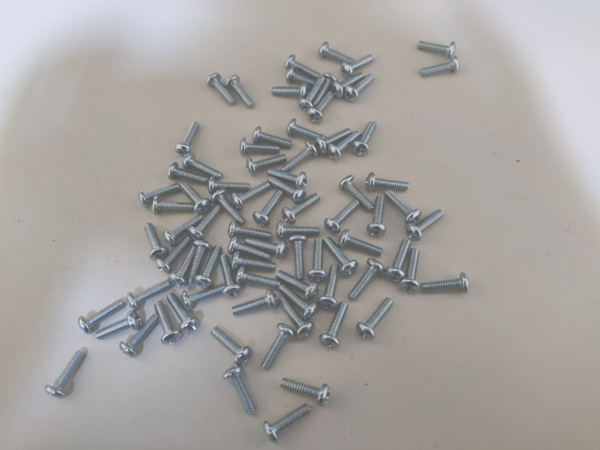shortscrew: (45, 350, 86, 399), (264, 403, 312, 443), (119, 315, 159, 359), (223, 365, 257, 416), (77, 301, 125, 336), (261, 323, 296, 371), (211, 327, 253, 366), (357, 298, 394, 341), (278, 297, 315, 339), (349, 258, 385, 301), (319, 302, 349, 350), (281, 378, 331, 406), (167, 293, 201, 334), (279, 285, 318, 320), (96, 311, 143, 340), (324, 236, 358, 276), (405, 209, 446, 242), (155, 237, 192, 273), (324, 199, 362, 234), (231, 289, 278, 317), (339, 176, 375, 212), (276, 270, 319, 300), (180, 284, 226, 312), (155, 302, 183, 347), (386, 190, 422, 225), (168, 245, 197, 287), (385, 238, 412, 283), (195, 245, 222, 290), (187, 240, 213, 286), (127, 283, 171, 310), (188, 204, 221, 240), (212, 189, 245, 225), (283, 193, 321, 224), (339, 230, 384, 256), (139, 182, 182, 209), (282, 142, 318, 174), (163, 216, 204, 244), (183, 151, 224, 179), (231, 182, 271, 210), (229, 236, 272, 262), (314, 128, 353, 156), (267, 176, 306, 204), (325, 131, 361, 161), (237, 266, 282, 290), (253, 190, 283, 226), (422, 273, 470, 295), (245, 237, 289, 261), (219, 254, 242, 299), (225, 76, 255, 109), (318, 264, 339, 311), (252, 126, 293, 150), (144, 222, 169, 261), (399, 249, 421, 293), (306, 238, 328, 282), (207, 73, 236, 106), (352, 120, 377, 156), (232, 251, 277, 271), (330, 73, 364, 99), (246, 155, 288, 176), (366, 195, 387, 237), (419, 56, 459, 78), (229, 220, 273, 240), (289, 234, 308, 279), (345, 74, 374, 103), (167, 163, 209, 183), (152, 196, 196, 215), (308, 91, 334, 123), (176, 122, 199, 158), (366, 173, 411, 191), (276, 221, 320, 239), (342, 55, 376, 78), (240, 138, 280, 157), (268, 168, 308, 187), (285, 56, 321, 77), (319, 43, 356, 63), (418, 41, 458, 58), (209, 176, 250, 192), (272, 83, 310, 98), (286, 68, 314, 84)
